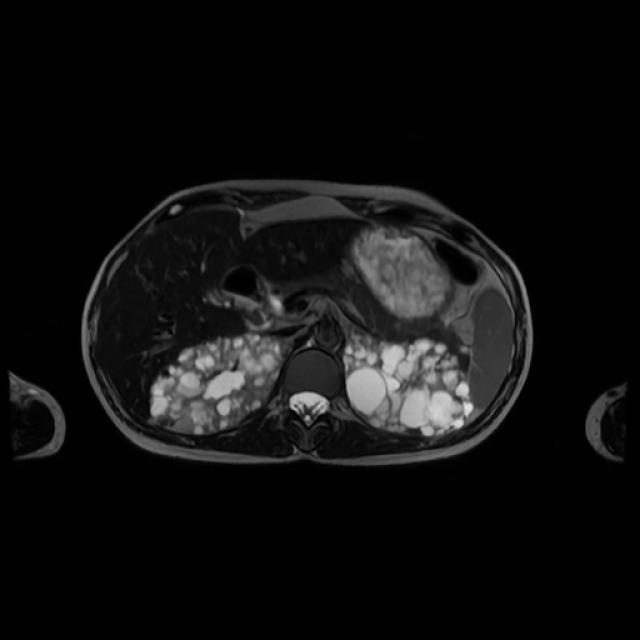sag: (152, 333, 289, 438)
sol: (347, 334, 473, 435)
